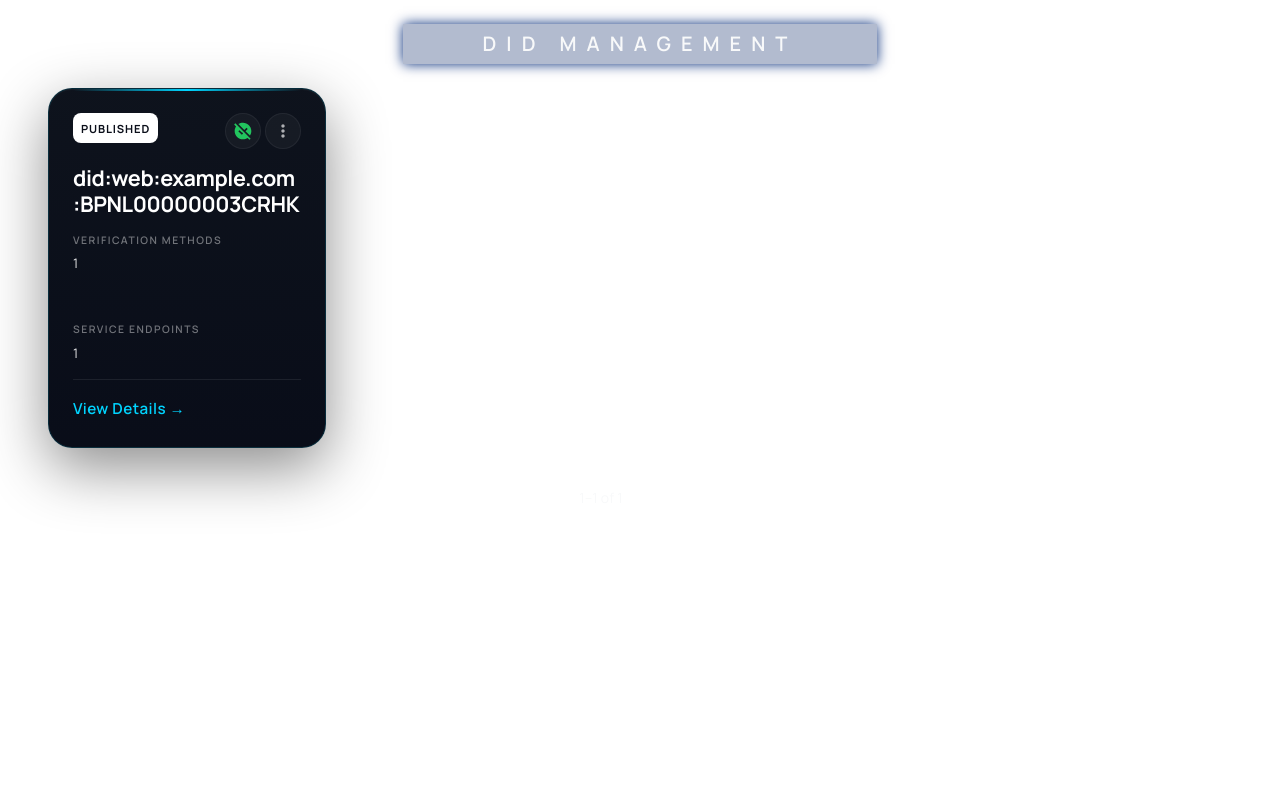
Test: DidPage › should open remove endpoint dialog when remove menu item is clicked
Expected: the text "did:web:example.com:BPNL00000003CRHK" is shown, [73,165,301,217]
What coordinates should you click on to do the following:
click the button with test id "MoreVertIcon"
I would click on:
 (283, 131)
Its box is [265,113,301,149].
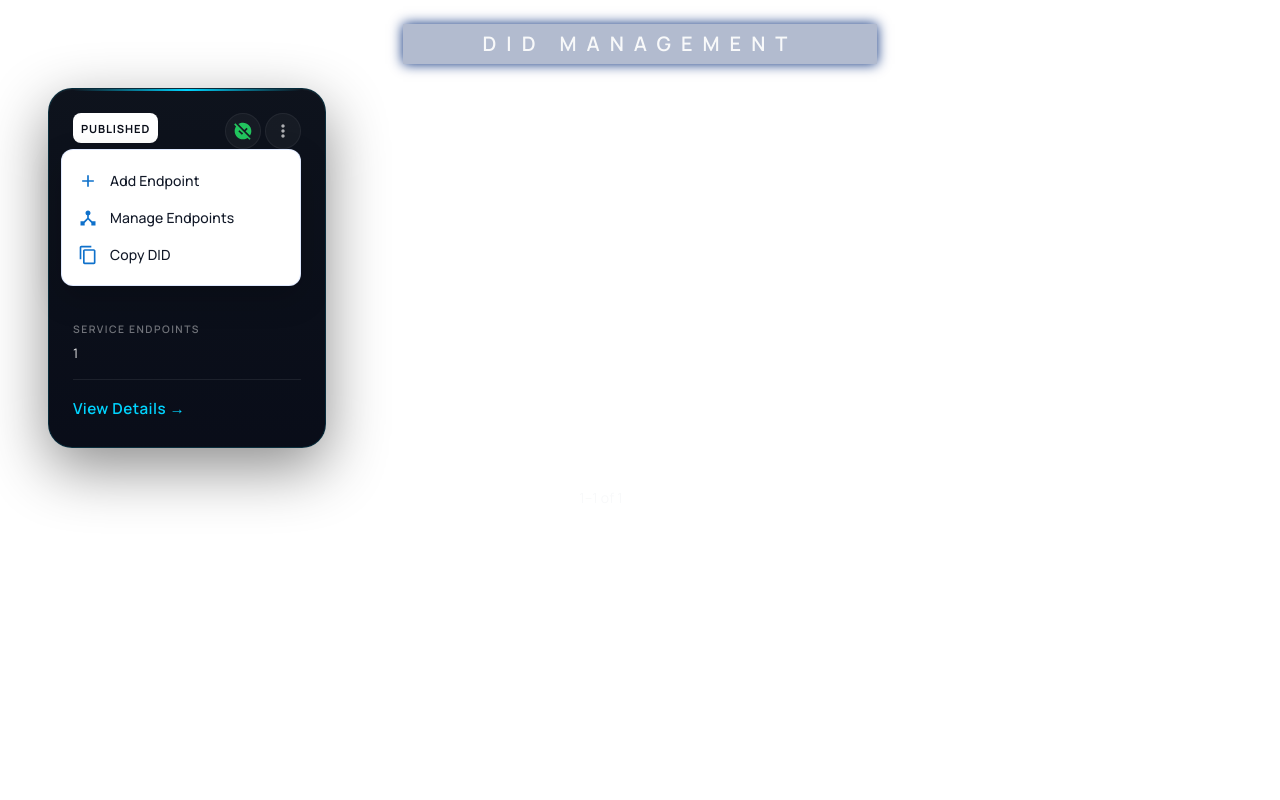
What coordinates should you click on to do the following:
click the text "Manage Endpoints"
I would click on:
 (172, 218)
Its box is [110,207,234,228].
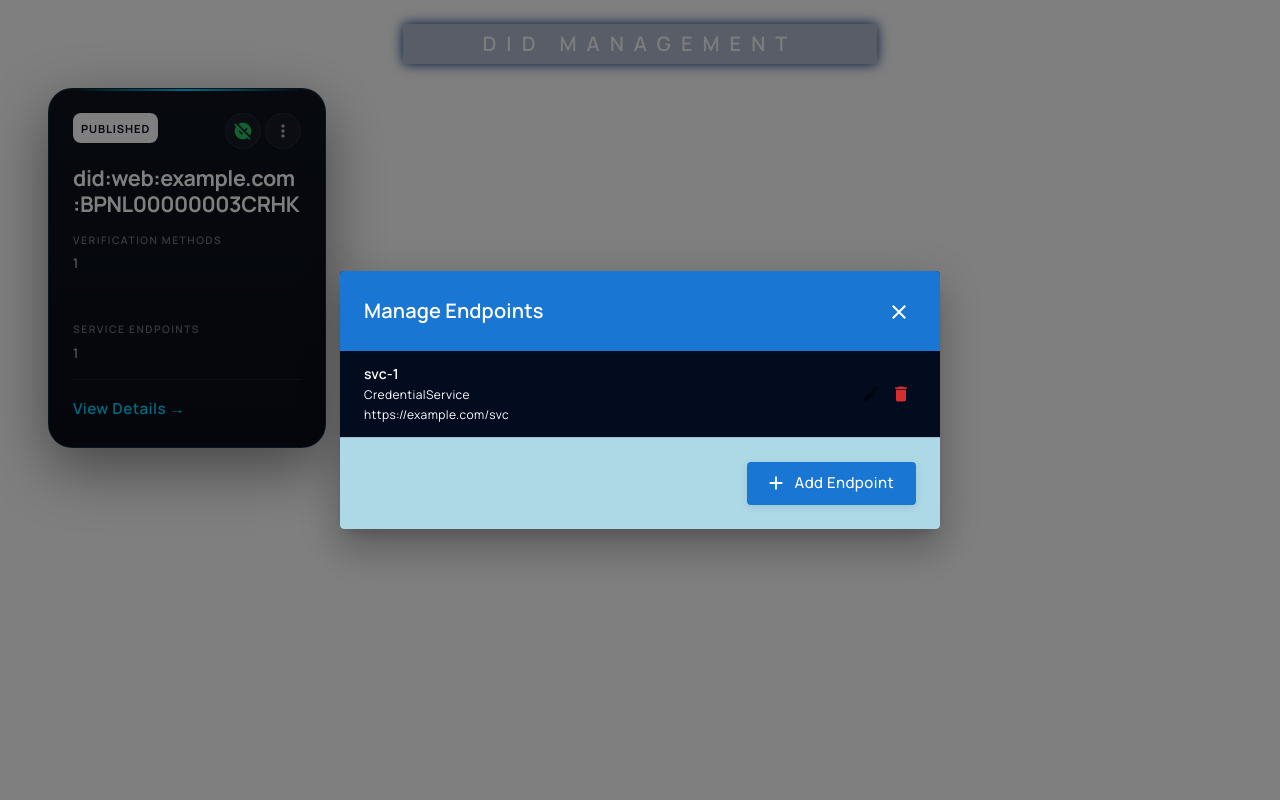
Expected: the heading "svc-1" is shown, [364,364,399,384]
What coordinates should you click on to do the following:
click the button with test id "DeleteIcon"
I would click on:
 (901, 394)
Its box is [886,379,916,409].
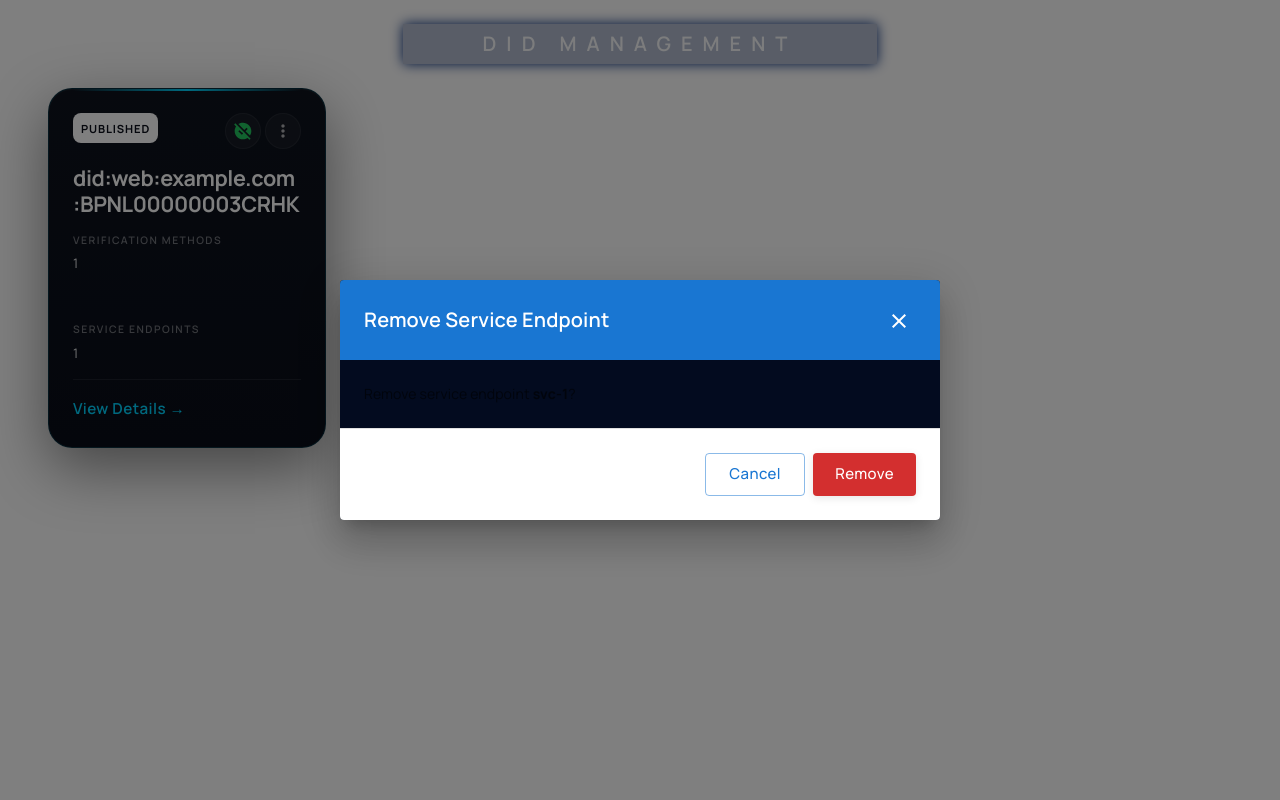
Expected: the heading "Remove Service Endpoint" is shown, [340,280,940,360]
